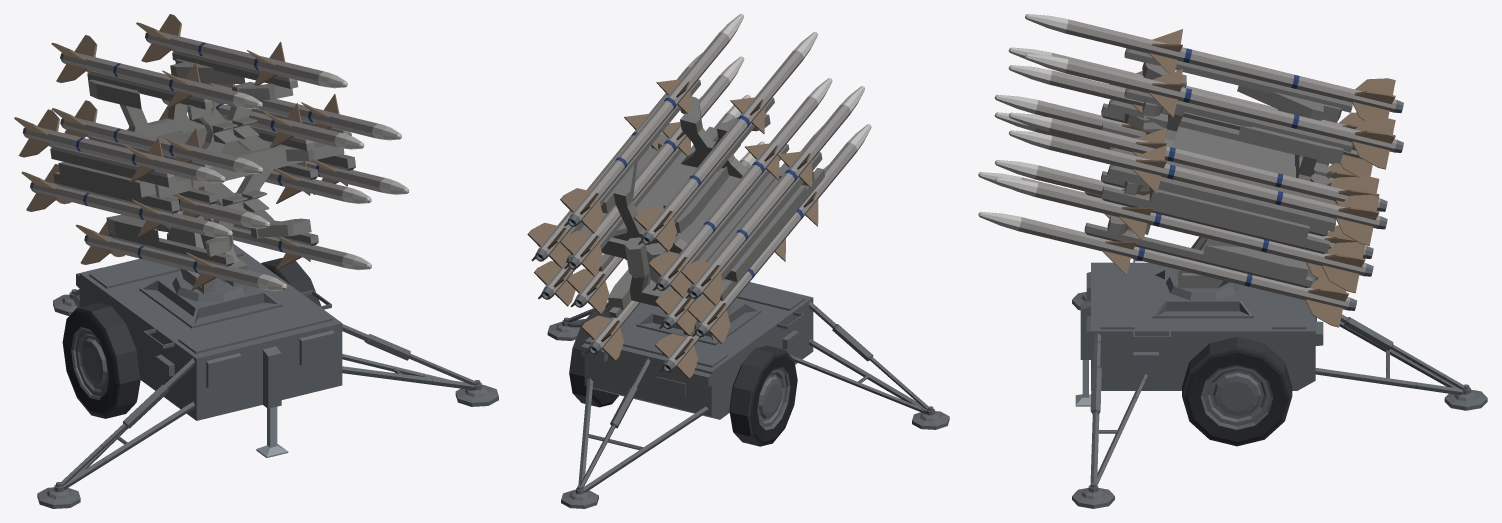
Rendered from SM_Prop_Missle_Launcher_02.fbx.
3 views of the same model, side by side, from view 1: azimuth 30°, elevation 25°; view 2: azimuth 150°, elevation 25°; view 3: azimuth 270°, elevation 25° (orthographic). The views are drawn at different scales.
Visible parts, largest first — view 1: SM_Prop_Missle_Launcher_02, SM_Prop_Missle_Launcher_02_Top, SM_Prop_Missle_Launcher_02_Missle_4, SM_Prop_Missle_Launcher_02_Missle_2, SM_Prop_Missle_Launcher_02_Missle_9, SM_Prop_Missle_Launcher_02_Missle_7, SM_Prop_Missle_Launcher_02_Missle_8, SM_Prop_Missle_Launcher_02_Missle_5, SM_Prop_Missle_Launcher_02_Missle_3, SM_Prop_Missle_Launcher_02_Missle_10, SM_Prop_Missle_Launcher_02_Missle_1, SM_Prop_Missle_Launcher_02_Missle_12 (+2 smaller); view 2: SM_Prop_Missle_Launcher_02, SM_Prop_Missle_Launcher_02_Top, SM_Prop_Missle_Launcher_02_Missle_2, SM_Prop_Missle_Launcher_02_Missle_4, SM_Prop_Missle_Launcher_02_Missle_9, SM_Prop_Missle_Launcher_02_Missle_8, SM_Prop_Missle_Launcher_02_Missle_10, SM_Prop_Missle_Launcher_02_Missle_7, SM_Prop_Missle_Launcher_02_Missle_3, SM_Prop_Missle_Launcher_02_Missle_1, SM_Prop_Missle_Launcher_02_Missle_12, SM_Prop_Missle_Launcher_02_Missle_5 (+2 smaller); view 3: SM_Prop_Missle_Launcher_02, SM_Prop_Missle_Launcher_02_Top, SM_Prop_Missle_Launcher_02_Missle_3, SM_Prop_Missle_Launcher_02_Missle_9, SM_Prop_Missle_Launcher_02_Missle_2, SM_Prop_Missle_Launcher_02_Missle_6, SM_Prop_Missle_Launcher_02_Missle_1, SM_Prop_Missle_Launcher_02_Missle_10, SM_Prop_Missle_Launcher_02_Missle_8, SM_Prop_Missle_Launcher_02_Missle_12, SM_Prop_Missle_Launcher_02_Missle_7, SM_Prop_Missle_Launcher_02_Missle_4 (+2 smaller).
Part boxes in pixels (x1,y1,x2,y2): SM_Prop_Missle_Launcher_02: (37,244,498,508); SM_Prop_Missle_Launcher_02_Top: (50,50,355,293); SM_Prop_Missle_Launcher_02_Missle_4: (14,109,225,183); SM_Prop_Missle_Launcher_02_Missle_2: (51,35,262,108); SM_Prop_Missle_Launcher_02_Missle_9: (136,14,347,88); SM_Prop_Missle_Launcher_02_Missle_7: (21,164,232,237); SM_Prop_Missle_Launcher_02_Missle_8: (51,100,262,174); SM_Prop_Missle_Launcher_02_Missle_5: (76,221,287,290); SM_Prop_Missle_Launcher_02_Missle_3: (202,83,401,140); SM_Prop_Missle_Launcher_02_Missle_10: (159,99,364,149); SM_Prop_Missle_Launcher_02_Missle_1: (232,227,371,270); SM_Prop_Missle_Launcher_02_Missle_12: (244,161,371,203); SM_Prop_Missle_Launcher_02: (547,282,949,508); SM_Prop_Missle_Launcher_02_Top: (566,79,824,335); SM_Prop_Missle_Launcher_02_Missle_2: (634,32,817,251); SM_Prop_Missle_Launcher_02_Missle_4: (681,86,864,305); SM_Prop_Missle_Launcher_02_Missle_9: (560,14,743,233); SM_Prop_Missle_Launcher_02_Missle_8: (648,78,832,297); SM_Prop_Missle_Launcher_02_Missle_10: (560,56,744,275); SM_Prop_Missle_Launcher_02_Missle_7: (687,124,871,343); SM_Prop_Missle_Launcher_02_Missle_3: (527,52,702,268); SM_Prop_Missle_Launcher_02_Missle_1: (581,141,764,360); SM_Prop_Missle_Launcher_02_Missle_12: (566,94,750,314); SM_Prop_Missle_Launcher_02_Missle_5: (655,165,828,378); SM_Prop_Missle_Launcher_02: (1072,259,1487,508); SM_Prop_Missle_Launcher_02_Top: (1084,48,1352,288); SM_Prop_Missle_Launcher_02_Missle_3: (1008,130,1387,245); SM_Prop_Missle_Launcher_02_Missle_9: (1025,54,1403,169); SM_Prop_Missle_Launcher_02_Missle_2: (1025,14,1403,120); SM_Prop_Missle_Launcher_02_Missle_6: (994,177,1373,293); SM_Prop_Missle_Launcher_02_Missle_1: (978,211,1356,327); SM_Prop_Missle_Launcher_02_Missle_10: (1008,112,1387,211); SM_Prop_Missle_Launcher_02_Missle_8: (1008,65,1372,177); SM_Prop_Missle_Launcher_02_Missle_12: (994,160,1373,258); SM_Prop_Missle_Launcher_02_Missle_7: (994,94,1356,181); SM_Prop_Missle_Launcher_02_Missle_4: (1008,47,1364,129).
Size of the model in its own units: 492 by 393 by 494.
